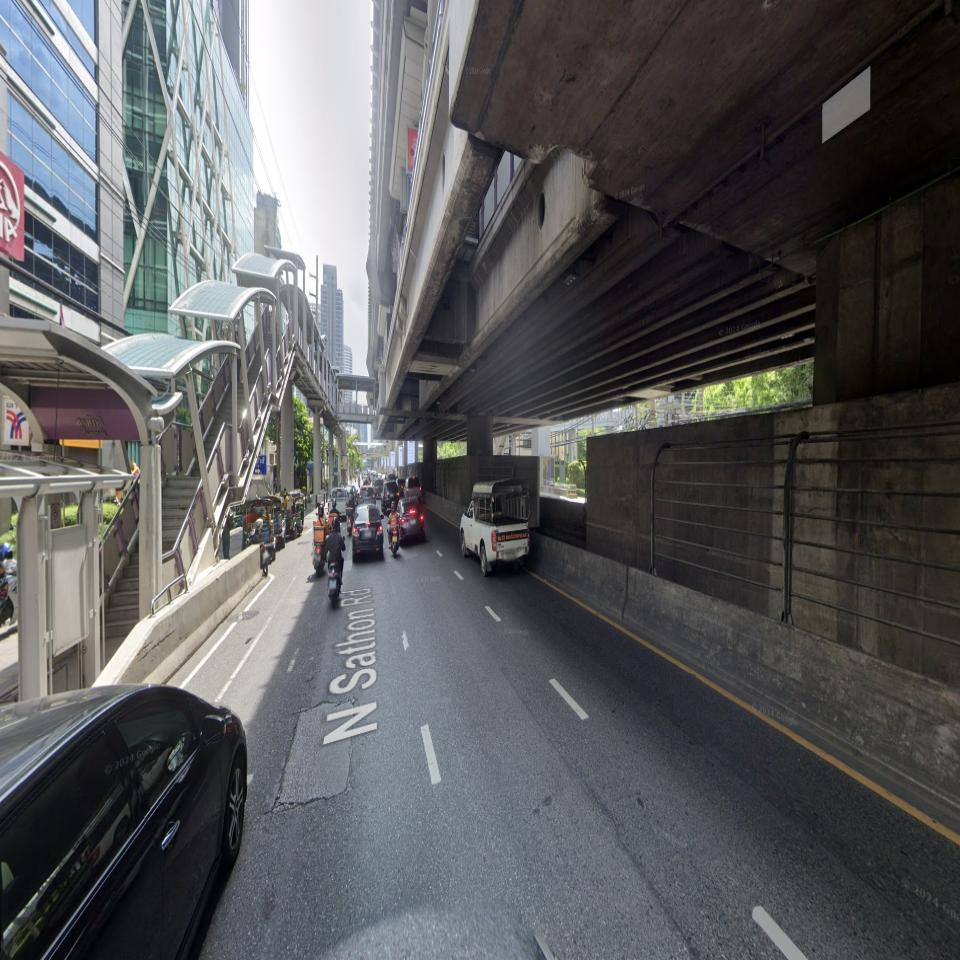Surasak: (3, 394, 141, 445), (29, 405, 141, 439)
